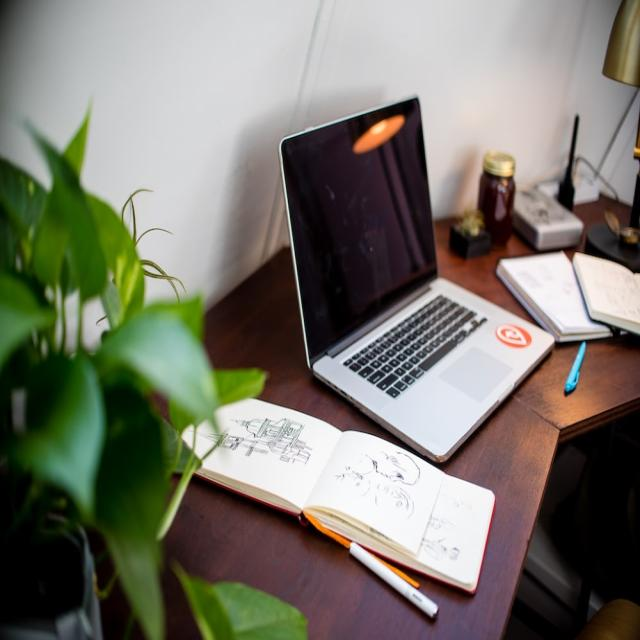keyboard: (339, 289, 491, 404)
